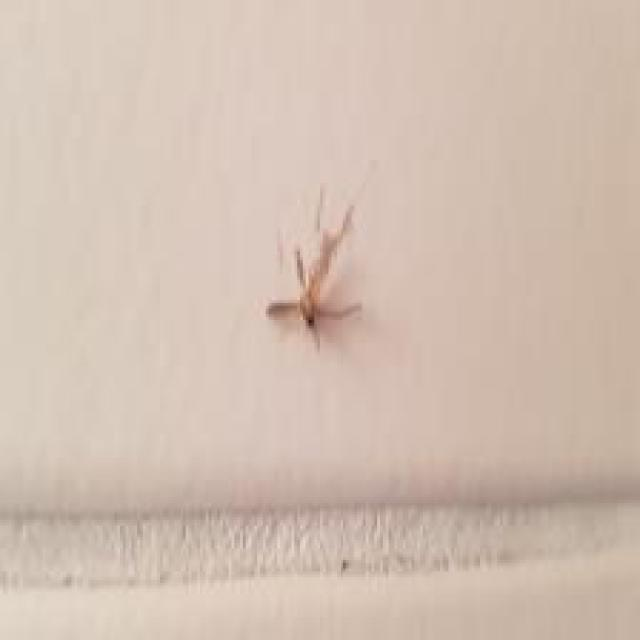Culex: (264, 181, 364, 350)
